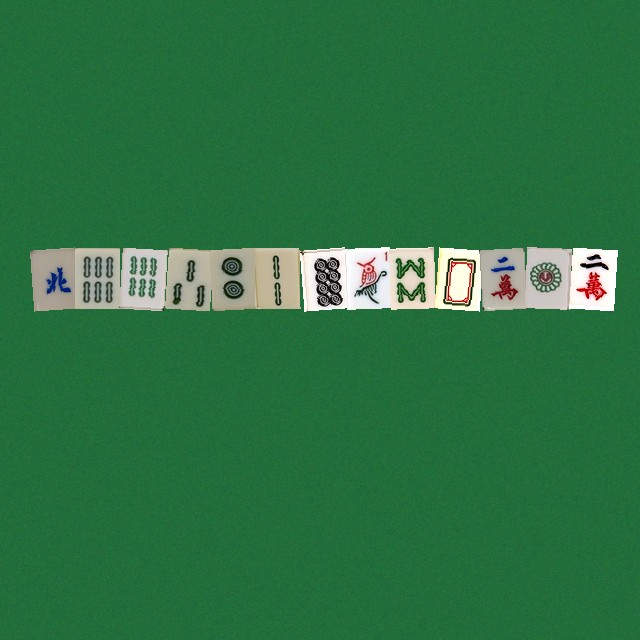tile: (29, 247, 74, 308), (74, 247, 119, 308), (119, 247, 164, 308), (164, 247, 209, 308), (209, 247, 254, 308), (254, 247, 299, 308), (299, 247, 344, 308), (344, 247, 389, 308), (389, 247, 434, 308), (434, 247, 479, 308), (479, 247, 524, 308), (524, 247, 569, 308), (569, 247, 614, 308)
